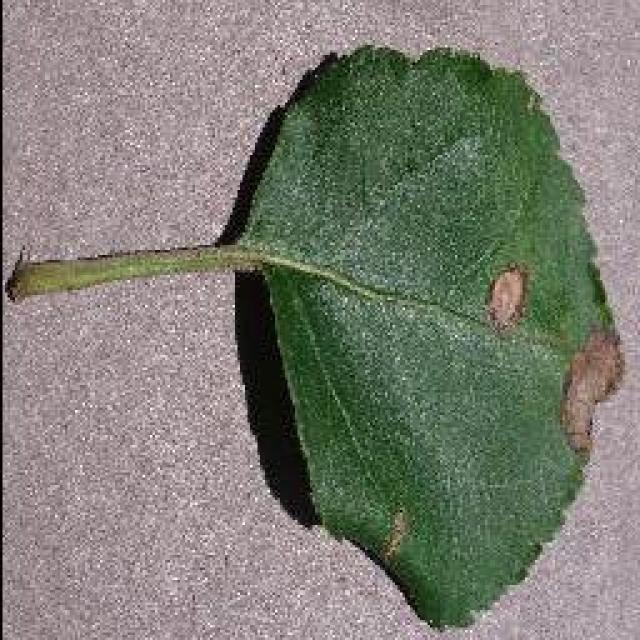Black_rot: (5, 40, 625, 632)
